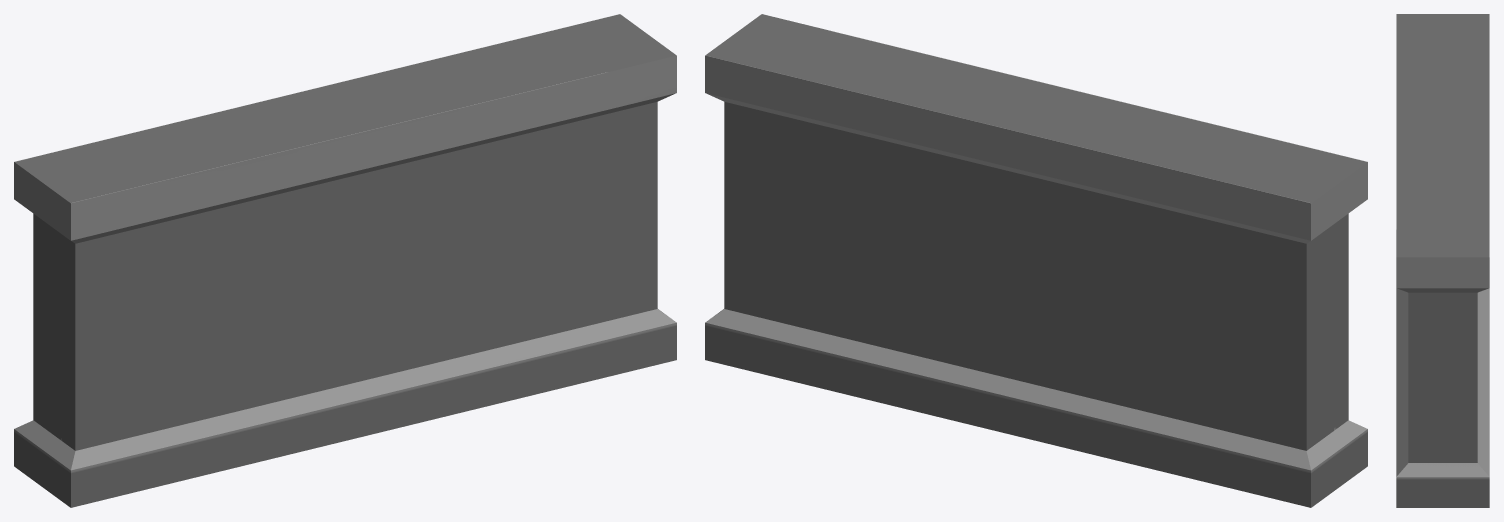
Rendered from Wall1.fbx.
3 views of the same model, side by side, from view 1: azimuth 30°, elevation 25°; view 2: azimuth 150°, elevation 25°; view 3: azimuth 270°, elevation 25° (orthographic). The views are drawn at different scales.
Visible parts, largest first — view 1: Cube; view 2: Cube; view 3: Cube.
Boxes of the visible parts, x1,y1,x2,y2 form: Cube: (14, 14, 676, 507); Cube: (705, 14, 1367, 507); Cube: (1396, 14, 1489, 507).
Bounding box in the file's own units: 4.16 × 2 × 0.6754.
